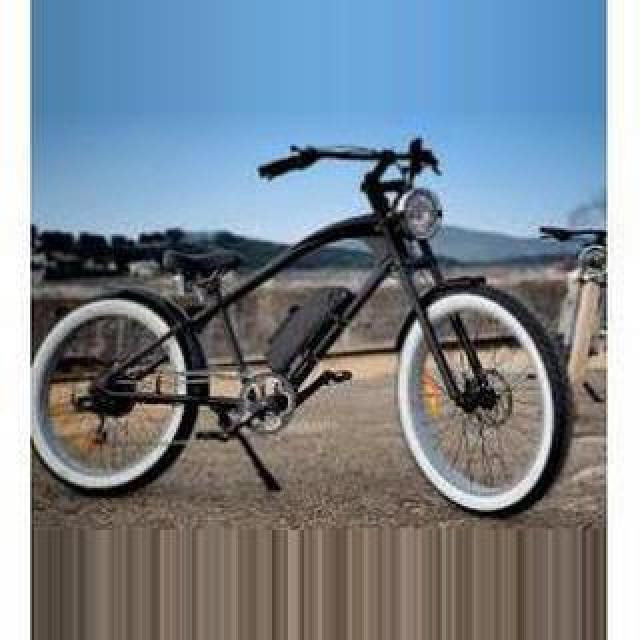Person: (32, 140, 580, 524)
